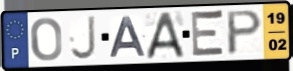A: (144, 10, 187, 61), (108, 15, 148, 59)
E: (190, 9, 227, 59)
J: (69, 14, 98, 62)
O: (29, 16, 64, 63)
P: (226, 8, 265, 58)
